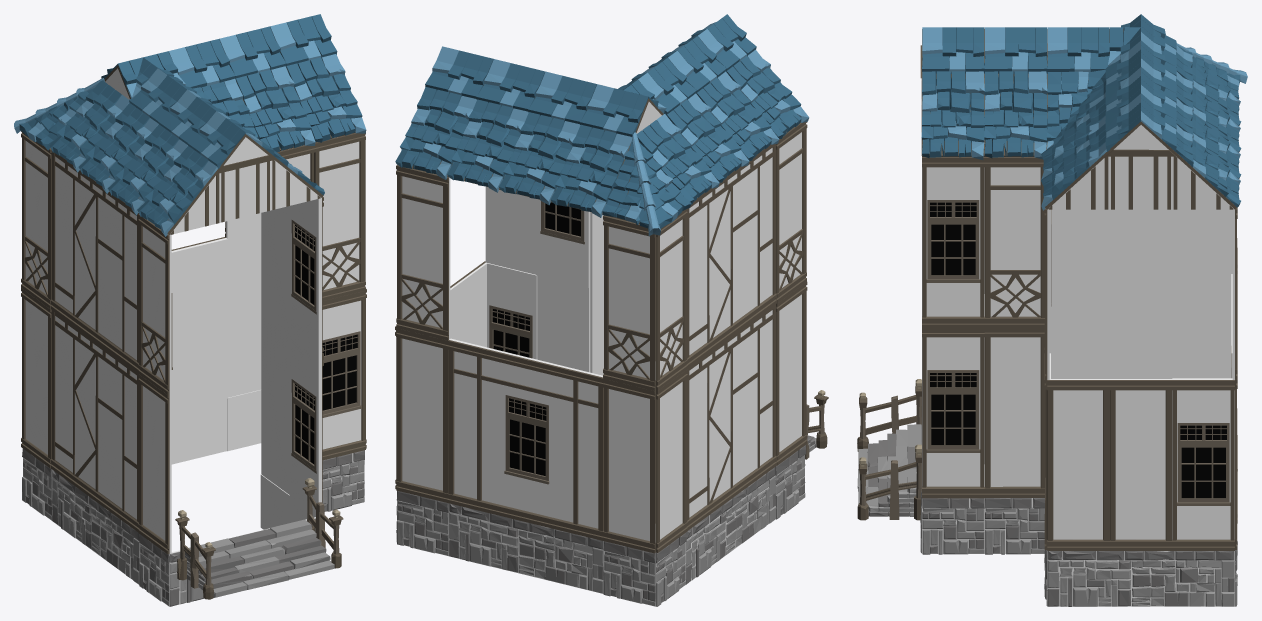
Rendered from House_12_parts.glb.
The picture shows the model from 3 angles, left to right: view 1: azimuth 30°, elevation 25°; view 2: azimuth 150°, elevation 25°; view 3: azimuth 270°, elevation 25°; orthographic projection. The views are drawn at different scales.
Parts seen in each view (by area): view 1: WALL_05_3, WALL_05_2, STAIRS_03_2, WINDOW_03_2, WALL_04_4, WINDOW_04_4, WALL_03_7, WALL_04_8, WALL_03_10, WINDOW_04_3, WINDOW_04_6, WALL_03_9 (+34 smaller); view 2: WINDOW_03_2, WALL_05_3, WALL_05_2, WALL_04_5, WALL_03_8, WALL_03_7, WALL_04_6, FOUNDATION_02_18, WALL_03_9, WALL_04_7, WALL_04_8, WALL_03_10 (+29 smaller); view 3: WALL_05_2, WINDOW_04_5, WALL_03_6, WALL_03_5, WINDOW_04_3, WINDOW_04_6, FOUNDATION_02_17, WALL_03_3, WALL_04_3, WALL_03_9, STAIRS_03_2, ROOF_base_4 (+31 smaller).
Part boxes in pixels (x1,y1,x2,y2): WALL_05_3: (51, 150, 139, 372); WALL_05_2: (51, 310, 139, 531); STAIRS_03_2: (175, 478, 343, 599); WINDOW_03_2: (171, 237, 227, 411); WALL_04_4: (314, 133, 365, 300); WINDOW_04_4: (322, 290, 365, 460); WALL_03_7: (227, 230, 261, 397); WALL_04_8: (138, 214, 171, 394); WALL_03_10: (138, 374, 171, 554); WINDOW_04_3: (289, 337, 323, 514); WINDOW_04_6: (289, 197, 323, 357); WALL_03_9: (21, 288, 51, 468); WINDOW_03_2: (447, 338, 603, 540); WALL_05_3: (686, 144, 776, 368); WALL_05_2: (686, 304, 776, 530); WALL_04_5: (396, 165, 450, 340); WALL_03_8: (603, 378, 655, 553); WALL_03_7: (396, 328, 448, 502); WALL_04_6: (603, 215, 655, 390); FOUNDATION_02_18: (449, 503, 604, 593); WALL_03_9: (656, 369, 687, 552); WALL_04_7: (655, 208, 687, 390); WALL_04_8: (775, 122, 807, 303); WALL_03_10: (775, 282, 807, 465); WALL_05_2: (1051, 249, 1172, 378); WINDOW_04_5: (1172, 378, 1234, 550); WALL_03_6: (1110, 379, 1172, 550); WALL_03_5: (1047, 379, 1109, 550); WINDOW_04_3: (922, 328, 984, 498); WINDOW_04_6: (922, 157, 984, 327); FOUNDATION_02_17: (1047, 551, 1234, 606); WALL_03_3: (984, 328, 1045, 497); WALL_04_3: (984, 157, 1045, 327); WALL_03_9: (1172, 248, 1232, 378); STAIRS_03_2: (857, 379, 921, 520); ROOF_base_4: (984, 70, 1047, 159).
Size of the model in its own units: 5.19 by 8.59 by 6.24.
1 material, 1 textured.
